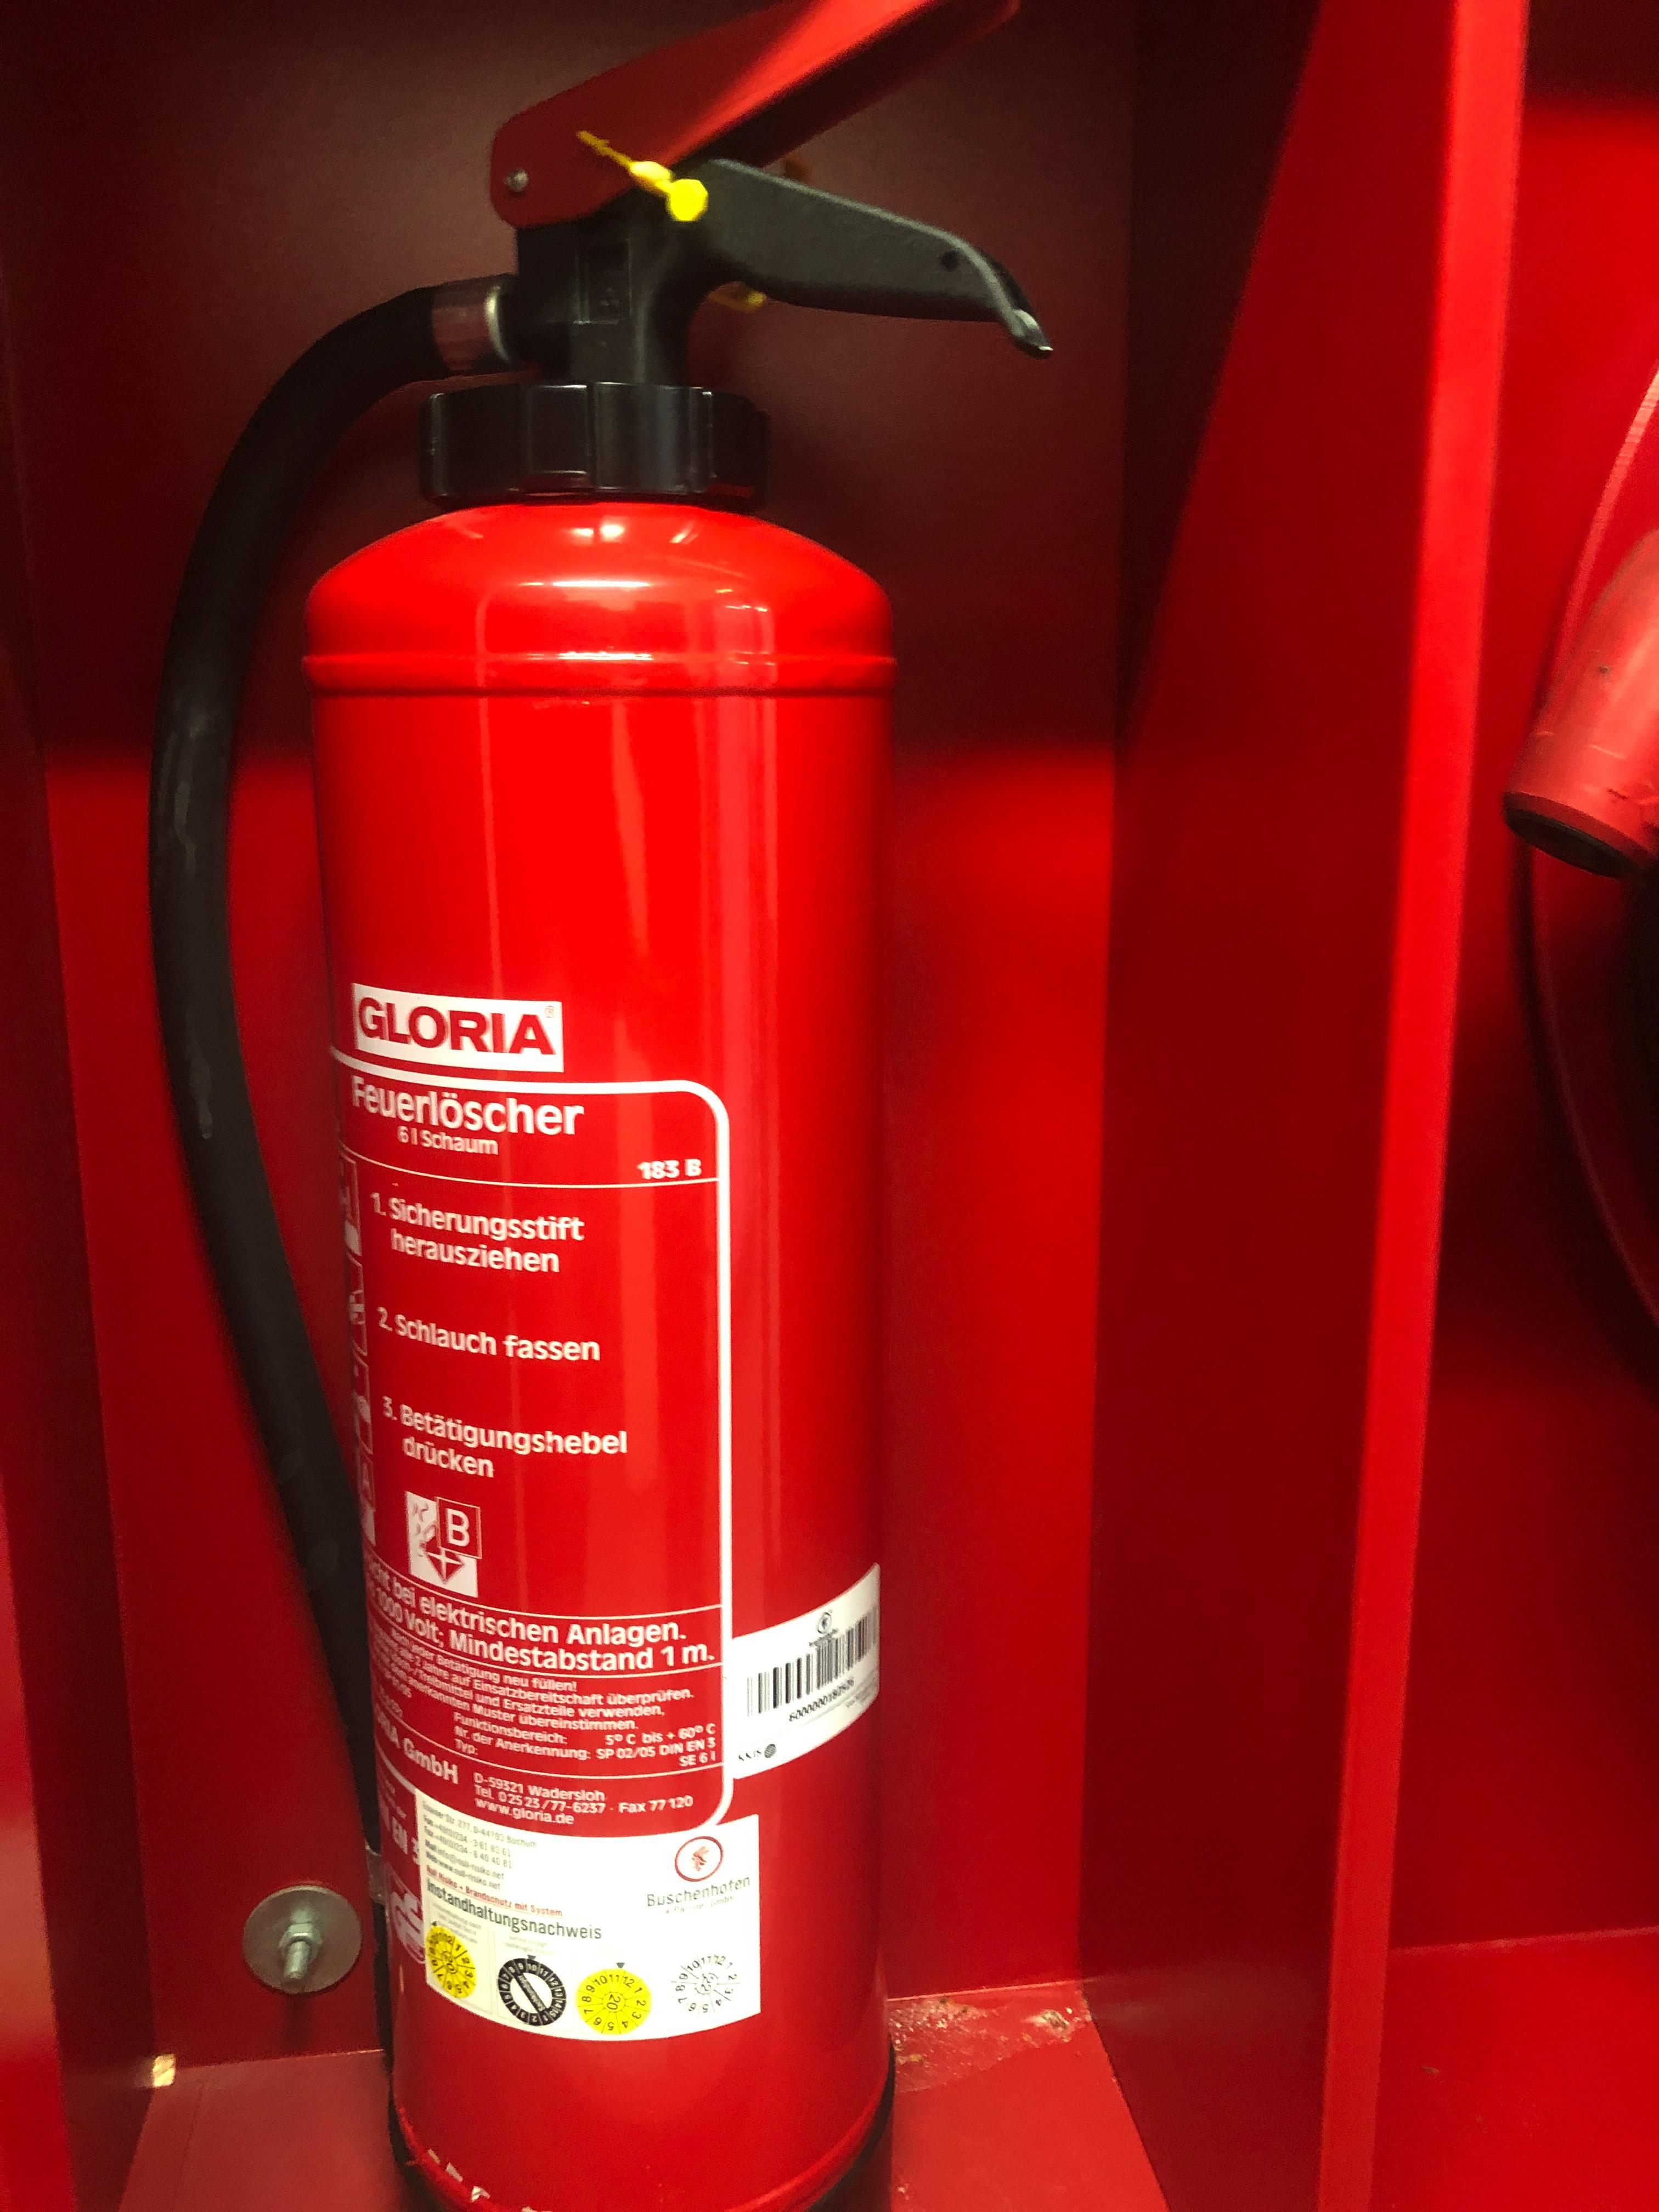extinguisher: (119, 5, 1073, 2205)
